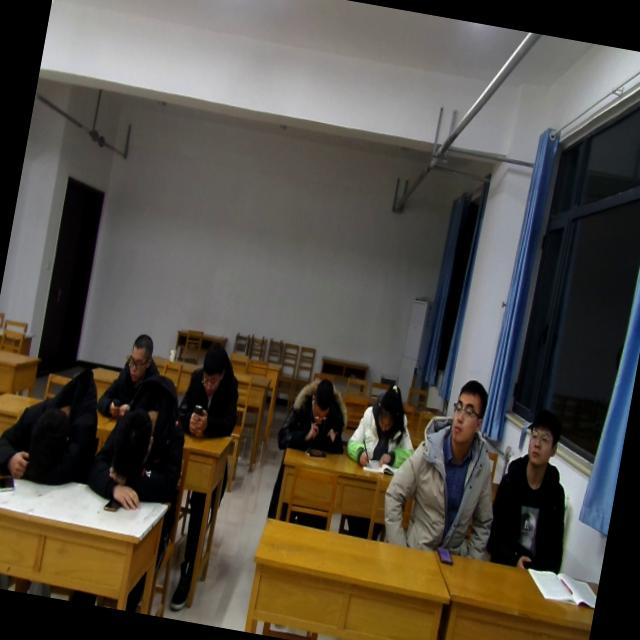bow: (84, 374, 196, 519), (0, 357, 108, 486)
down: (194, 338, 232, 399), (120, 327, 158, 386), (370, 378, 407, 437), (304, 369, 338, 427)
lookup: (444, 371, 492, 452), (517, 402, 566, 472)
sit: (378, 368, 520, 555), (484, 400, 590, 574), (172, 332, 250, 446), (276, 366, 355, 461), (343, 377, 421, 472), (99, 328, 172, 414)
